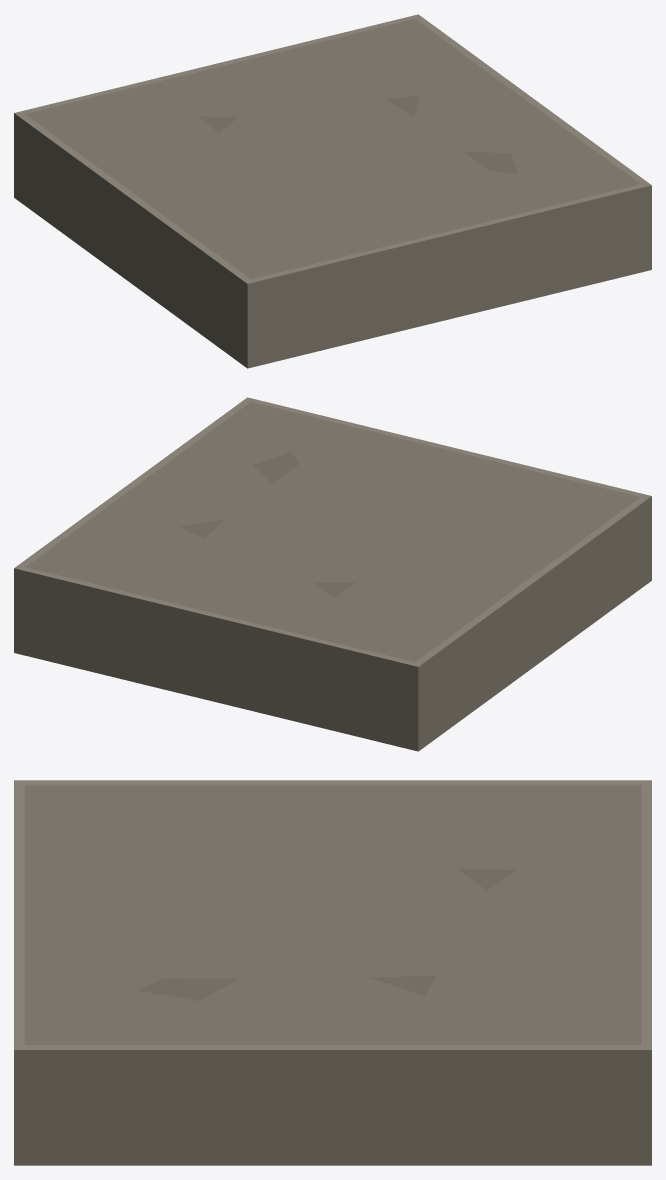
The model's file is ConcrateSlabs_A_4_3.fbx.
3 renders of one model, top to bottom at view 1: azimuth 30°, elevation 25°; view 2: azimuth 150°, elevation 25°; view 3: azimuth 270°, elevation 25°, orthographic. The views are drawn at different scales.
Parts seen in each view (by area): view 1: ConcrateSlabs_A_4_3; view 2: ConcrateSlabs_A_4_3; view 3: ConcrateSlabs_A_4_3.
Boxes of the visible parts, x1=… form: ConcrateSlabs_A_4_3: x1=14, y1=14, x2=651, y2=368; ConcrateSlabs_A_4_3: x1=14, y1=397, x2=651, y2=751; ConcrateSlabs_A_4_3: x1=14, y1=780, x2=651, y2=1165.
Bounding box in the file's own units: 200 × 40 × 200.
